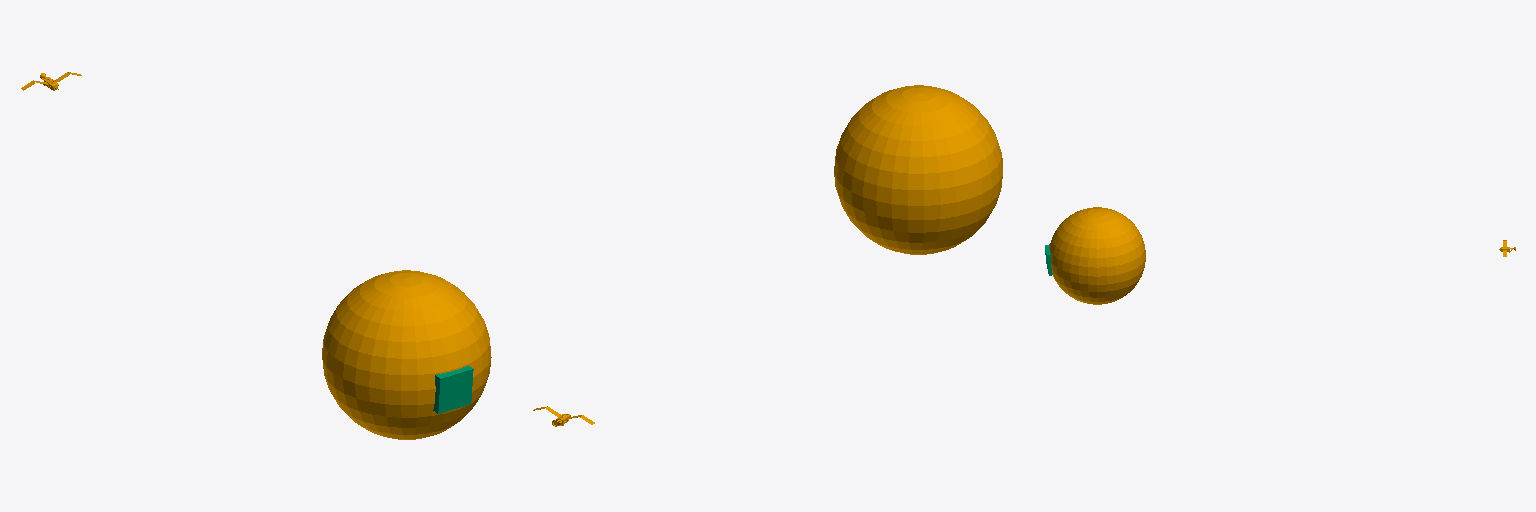
The robot description file, URDF, robot "satellite_16":
<?xml version='1.0' encoding='utf-8'?>
<robot name="satellite_16">
  <link name="base_link">
    <visual>
      <geometry>
        <mesh filename="satellite.stl" />
      </geometry>
    </visual>
    <collision>
      <geometry>
        <mesh filename="satellite.stl" />
      </geometry>
    </collision>
  </link>
  <link name="satellite_16_mount" />
  <joint name="satellite_mount_fixed" type="fixed">
    <parent link="base_link" />
    <child link="satellite_16_mount" />
    <origin xyz="0.054587137540405395 -7.8260790473016195 -0.05458727652902946" rpy="3.1415926535897922 -1.473089441440349 -1.4726166555900306" />
  </joint>
  <link name="mount_support">
    <visual>
      <geometry>
        <mesh filename="mount_support.stl" />
      </geometry>
    </visual>
    <collision>
      <geometry>
        <mesh filename="mount_support.stl" />
      </geometry>
    </collision>
  </link>
  <joint name="support_fixed" type="fixed">
    <parent link="satellite_16_mount" />
    <child link="mount_support" />
    <origin xyz="0 0 0" rpy="0 0 0" />
  </joint>
</robot>

--- What the picture shows (computed from the rendered views, not written in the file) ---
3 views of the same robot in one strip: view 1: azimuth 30°, elevation 25°; view 2: azimuth 150°, elevation 25°; view 3: azimuth 270°, elevation 25° (orthographic).
Model satellite_16 with 3 links and 2 joints (2 fixed), rooted at base_link, posed every joint at zero.
Visible links, largest first — view 1: base_link, mount_support; view 2: base_link; view 3: base_link.
Boxes of the visible links, x1,y1,x2,y2 form: base_link: [21, 72, 491, 439]; mount_support: [433, 365, 473, 413]; base_link: [533, 85, 1002, 426]; base_link: [1049, 207, 1515, 304].
Size in the robot's own frame: 1.67 by 8.07 by 1.67 metres.
Meshes: 2 distinct files referenced, 2 mesh visuals loaded (2 binary STL).
